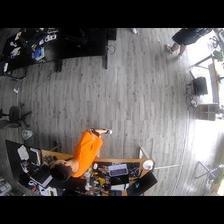normal: (162, 26, 214, 60)
